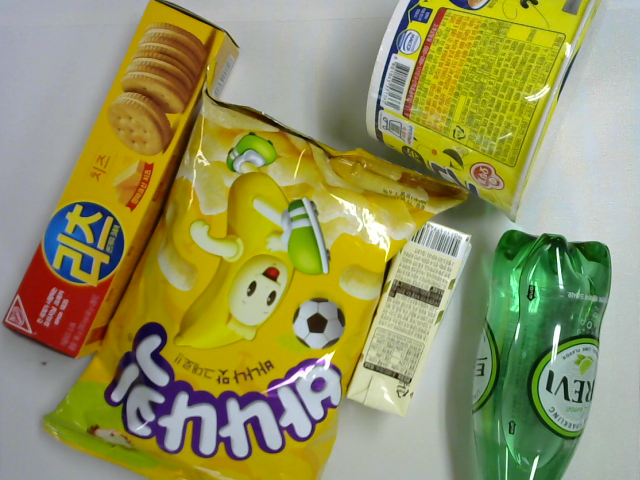99.89_Soymilk: (344, 217, 473, 418)
Banana_Kick: (39, 65, 470, 480)
Jinlamyeon_Mild_Taste_Large_Cup: (364, 1, 603, 225)
Ritz_Sand_Cracker: (1, 1, 241, 362)
Treviraim_500ml: (469, 226, 612, 480)
